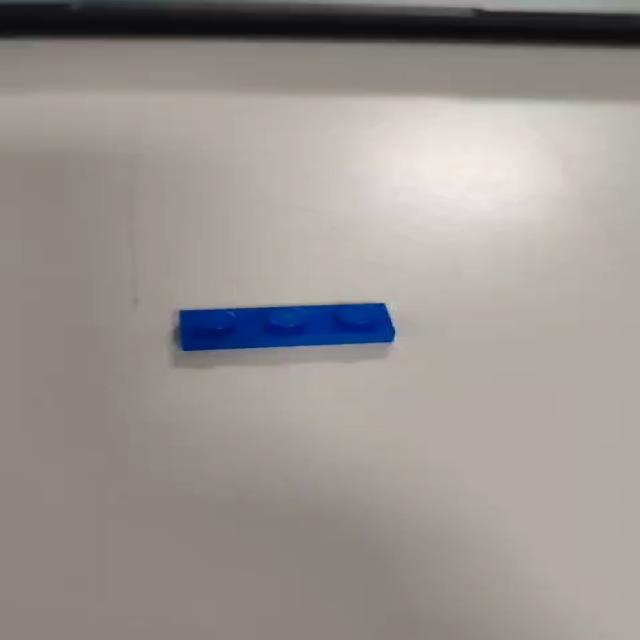C3x1x0: (174, 302, 395, 358)
